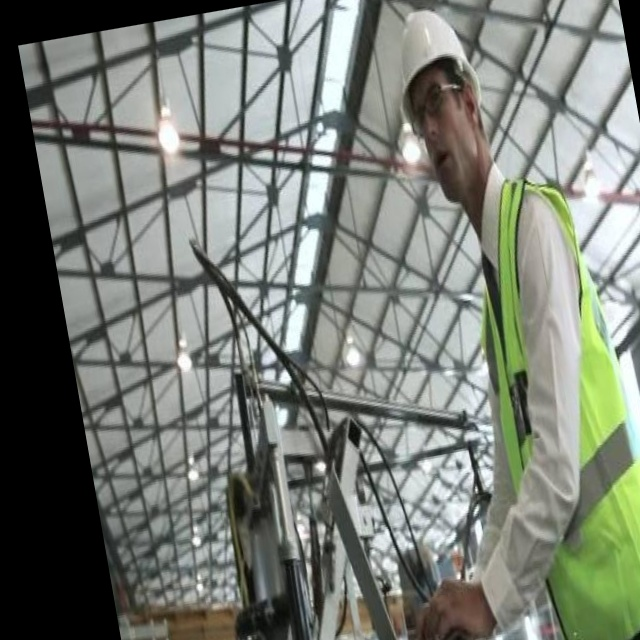Con_Chaleco: (447, 168, 640, 640)
